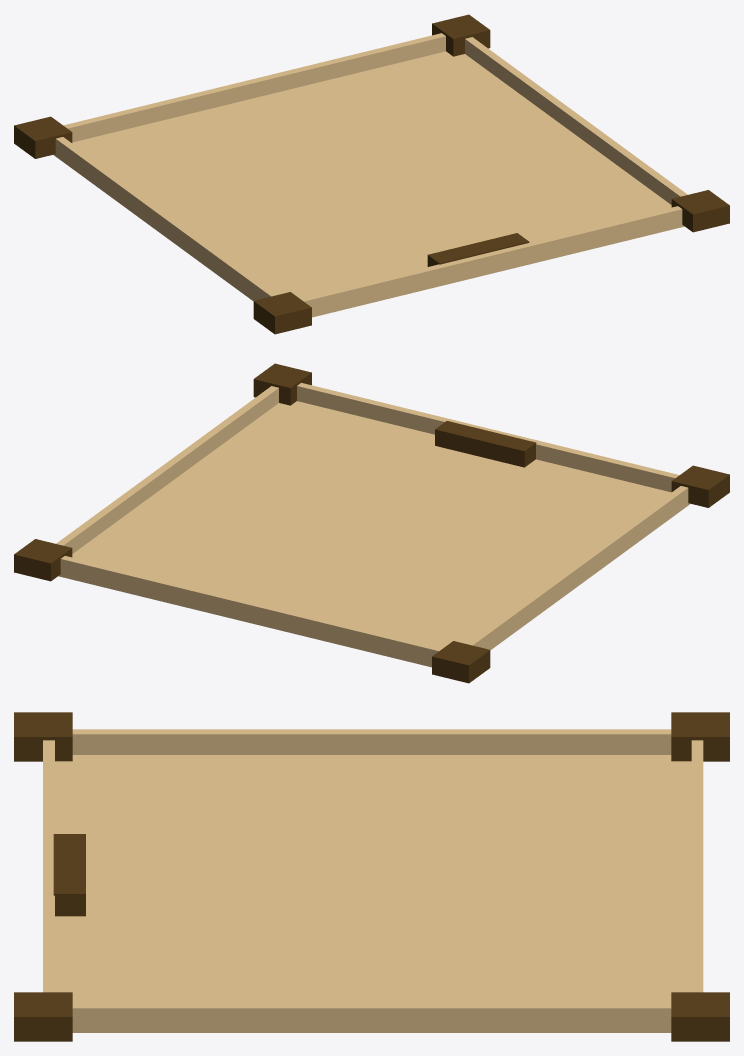
File: HouseT1_1.fbx
The picture shows the model from 3 angles, top to bottom: view 1: azimuth 30°, elevation 25°; view 2: azimuth 150°, elevation 25°; view 3: azimuth 270°, elevation 25°; orthographic projection. The views are drawn at different scales.
Visible parts, largest first — view 1: HouseT1_1; view 2: HouseT1_1; view 3: HouseT1_1.
Boxes of the visible parts, bbox=[...] form: HouseT1_1: bbox=[14, 14, 729, 334]; HouseT1_1: bbox=[14, 363, 729, 683]; HouseT1_1: bbox=[14, 712, 729, 1041].
Size of the model in its own units: 803 by 34.71 by 808.
